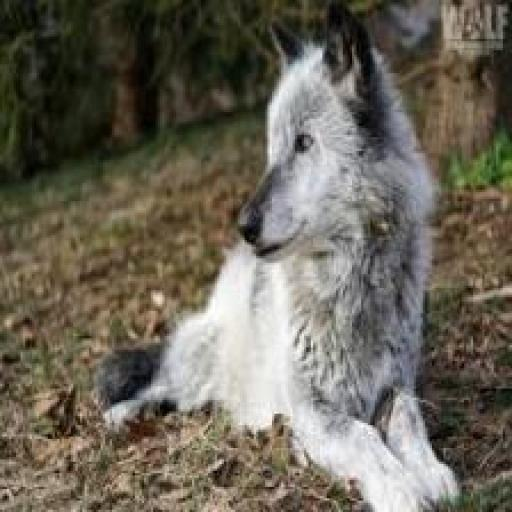wolf: (71, 0, 483, 512)
